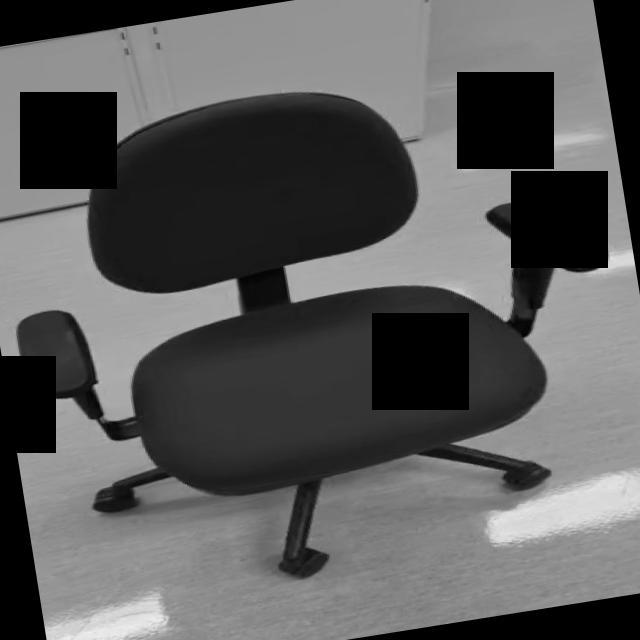chair: (0, 45, 640, 616)
